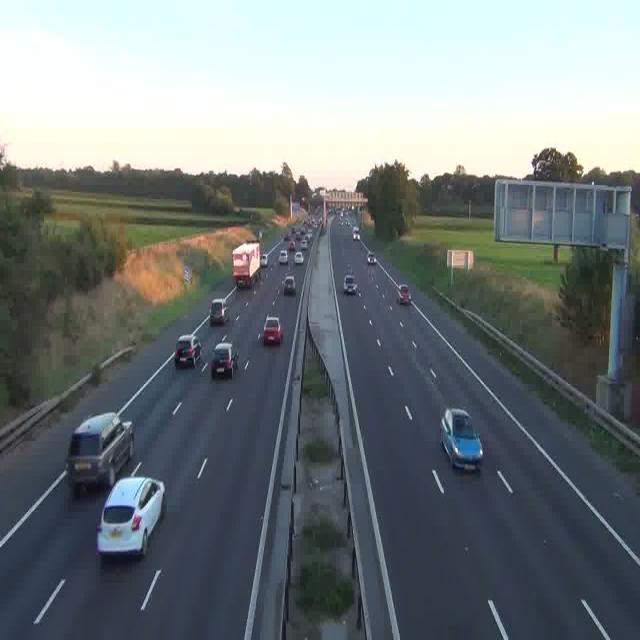car: (97, 477, 165, 559), (66, 414, 134, 494), (441, 408, 483, 472), (174, 333, 202, 368), (210, 342, 236, 379), (262, 316, 282, 345), (209, 298, 229, 325), (397, 283, 411, 304), (343, 274, 357, 293), (283, 274, 296, 293), (366, 251, 377, 265), (278, 250, 288, 265), (294, 250, 304, 263), (303, 235, 310, 246), (284, 233, 290, 244)
truck: (232, 241, 262, 286)
